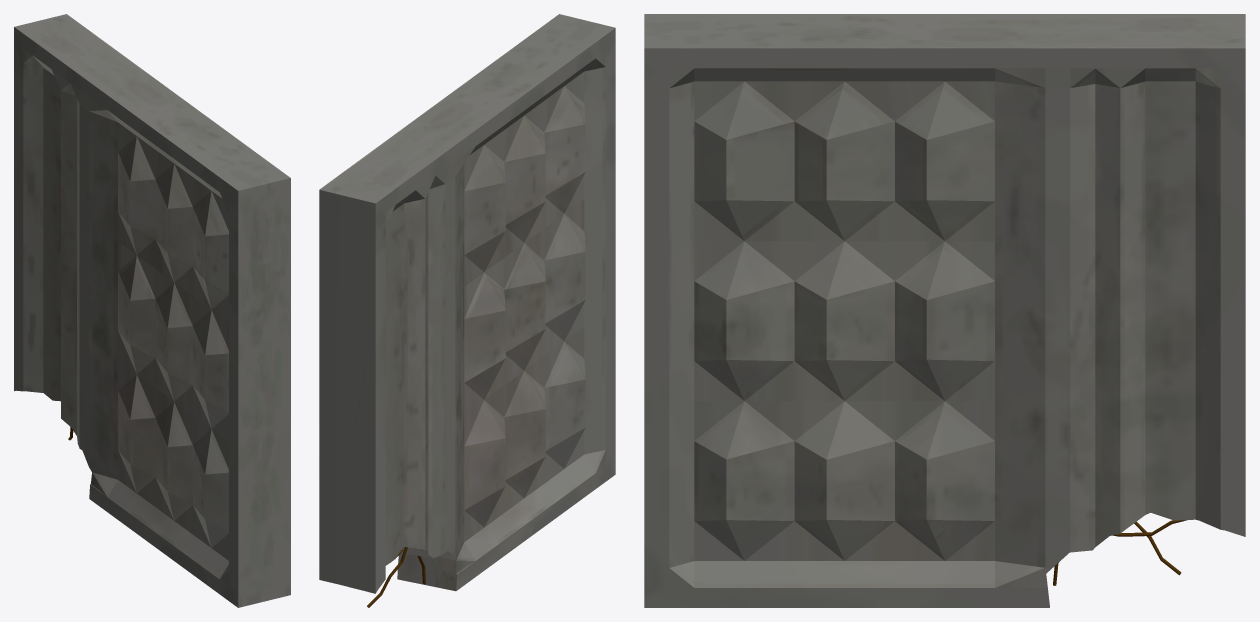
The model's file is zaborBolshoy3.fbx.
The picture shows the model from 3 angles, left to right: view 1: azimuth 30°, elevation 25°; view 2: azimuth 150°, elevation 25°; view 3: azimuth 270°, elevation 25°; orthographic projection. The views are drawn at different scales.
Visible parts, largest first — view 1: Cube; view 2: Cube; view 3: Cube.
Part boxes in pixels (x1,y1,x2,y2): Cube: (14, 14, 290, 607); Cube: (319, 14, 615, 593); Cube: (644, 14, 1245, 607).
Size of the model in its own units: 30.85 by 212 by 207.
Materials: 3 (1 with a texture image).
